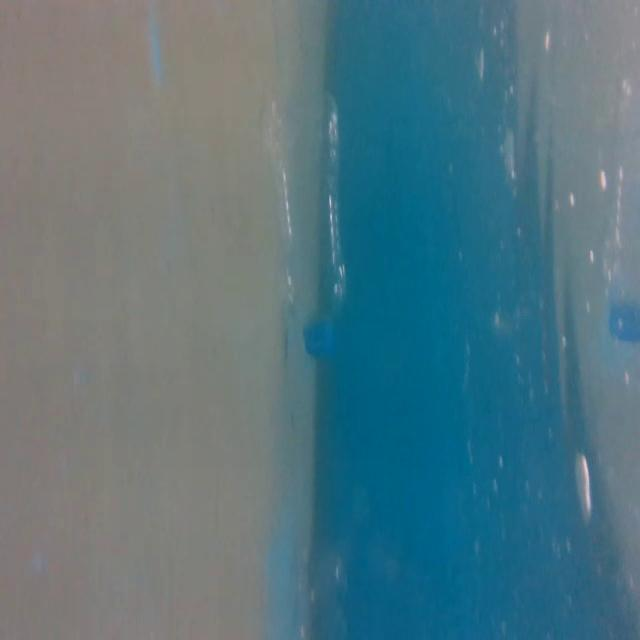plastic bottle: (260, 83, 354, 361)
